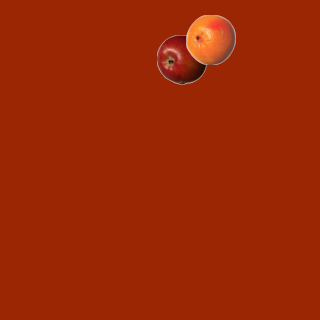Apple Braeburn: (156, 34, 206, 84)
Grapefruit Pink: (185, 14, 235, 64)
